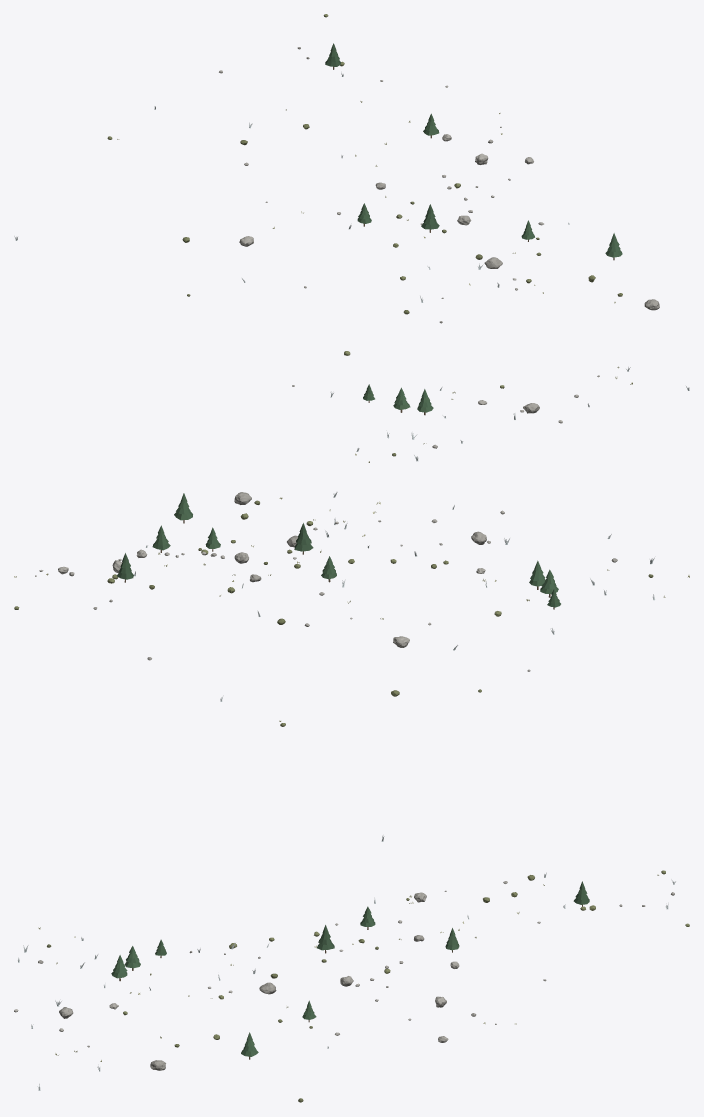
The model's file is coast_land_scatter_c09_22.glb.
3 renders of one model, top to bottom at view 1: azimuth 30°, elevation 25°; view 2: azimuth 150°, elevation 25°; view 3: azimuth 270°, elevation 25°, orthographic. The views are drawn at different scales.
Parts seen in each view (by area): view 1: coast_land_scatter_c09_22; view 2: coast_land_scatter_c09_22; view 3: coast_land_scatter_c09_22.
Boxes of the visible parts, box(x1,y1,x2,y2) form: coast_land_scatter_c09_22: box(14, 14, 689, 462); coast_land_scatter_c09_22: box(14, 492, 689, 841); coast_land_scatter_c09_22: box(14, 870, 689, 1102).
Size of the model in its own units: 177 by 72.69 by 253.
